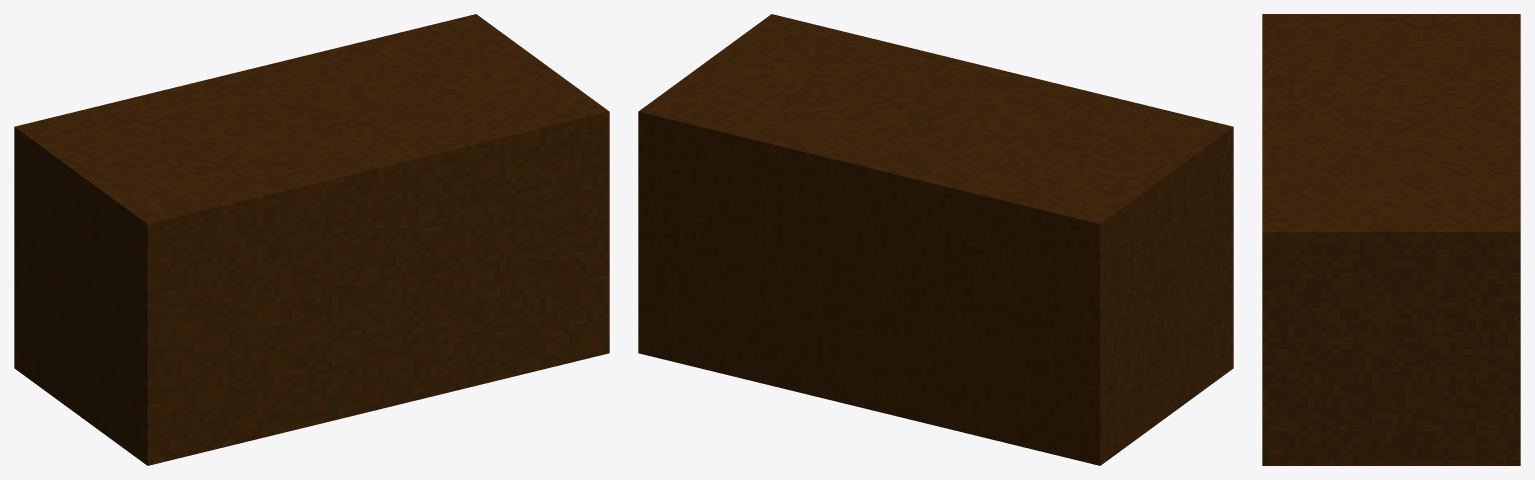
File: LargeRocks-5-ROCK2_LOD1.obj
The picture shows the model from 3 angles, left to right: view 1: azimuth 30°, elevation 25°; view 2: azimuth 150°, elevation 25°; view 3: azimuth 270°, elevation 25°; orthographic projection. The views are drawn at different scales.
Visible parts, largest first — view 1: ROCK2_LOD1; view 2: ROCK2_LOD1; view 3: ROCK2_LOD1.
Part boxes in pixels (left/top/right/bottom): ROCK2_LOD1: left=14, top=14, right=609, bottom=465; ROCK2_LOD1: left=638, top=14, right=1233, bottom=465; ROCK2_LOD1: left=1262, top=14, right=1520, bottom=465.
Size of the model in its own units: 8 by 4 by 4.
Materials: 1 (1 with a texture image).
